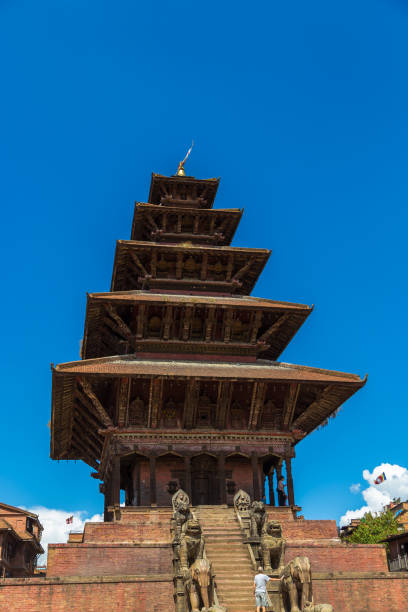nyathapola: (29, 102, 383, 591)
